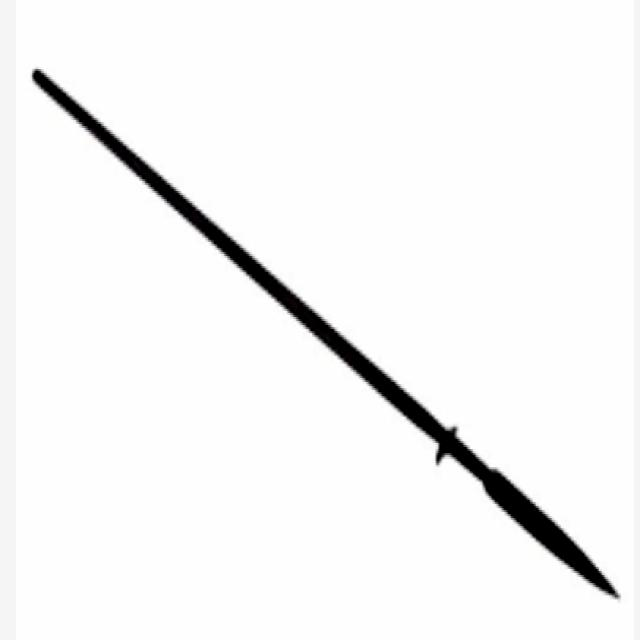spear: (23, 48, 619, 614)
